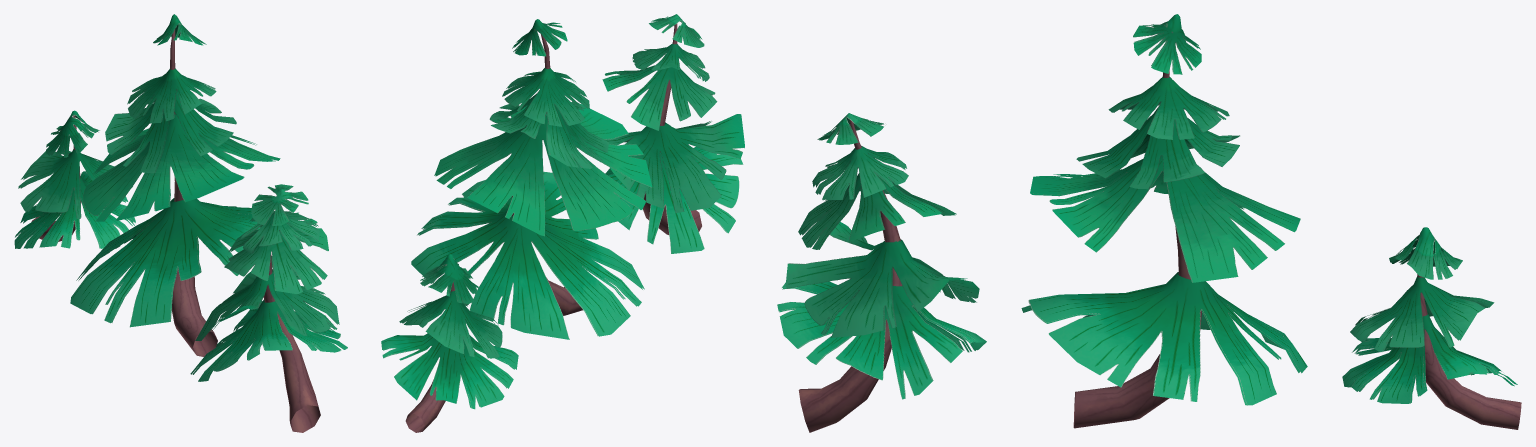
The model's file is pine_boom_trees.fbx.
The picture shows the model from 3 angles, left to right: view 1: azimuth 30°, elevation 25°; view 2: azimuth 150°, elevation 25°; view 3: azimuth 270°, elevation 25°; orthographic projection. The views are drawn at different scales.
Parts seen in each view (by area): view 1: big tree foliage, small tree foliage, mid tree foliage, small tree, big tree; view 2: big tree foliage, small tree foliage, mid tree foliage, mid tree, big tree, small tree; view 3: big tree foliage, small tree foliage, mid tree foliage, big tree, small tree, mid tree.
Boxes of the visible parts, x1=… form: big tree foliage: x1=70, y1=14, x2=289, y2=327; small tree foliage: x1=190, y1=184, x2=347, y2=381; mid tree foliage: x1=14, y1=110, x2=135, y2=248; small tree: x1=263, y1=252, x2=320, y2=432; big tree: x1=170, y1=29, x2=217, y2=356; big tree foliage: x1=411, y1=19, x2=652, y2=339; small tree foliage: x1=602, y1=14, x2=744, y2=253; mid tree foliage: x1=381, y1=254, x2=518, y2=409; mid tree: x1=405, y1=282, x2=454, y2=432; big tree: x1=512, y1=34, x2=582, y2=315; small tree: x1=643, y1=23, x2=701, y2=234; big tree foliage: x1=1021, y1=14, x2=1307, y2=405; small tree foliage: x1=777, y1=113, x2=986, y2=399; mid tree foliage: x1=1342, y1=227, x2=1517, y2=403; big tree: x1=1073, y1=71, x2=1201, y2=428; small tree: x1=798, y1=119, x2=902, y2=432; mid tree: x1=1417, y1=274, x2=1521, y2=429.
Bounding box in the file's own units: 279 × 408 × 652.
